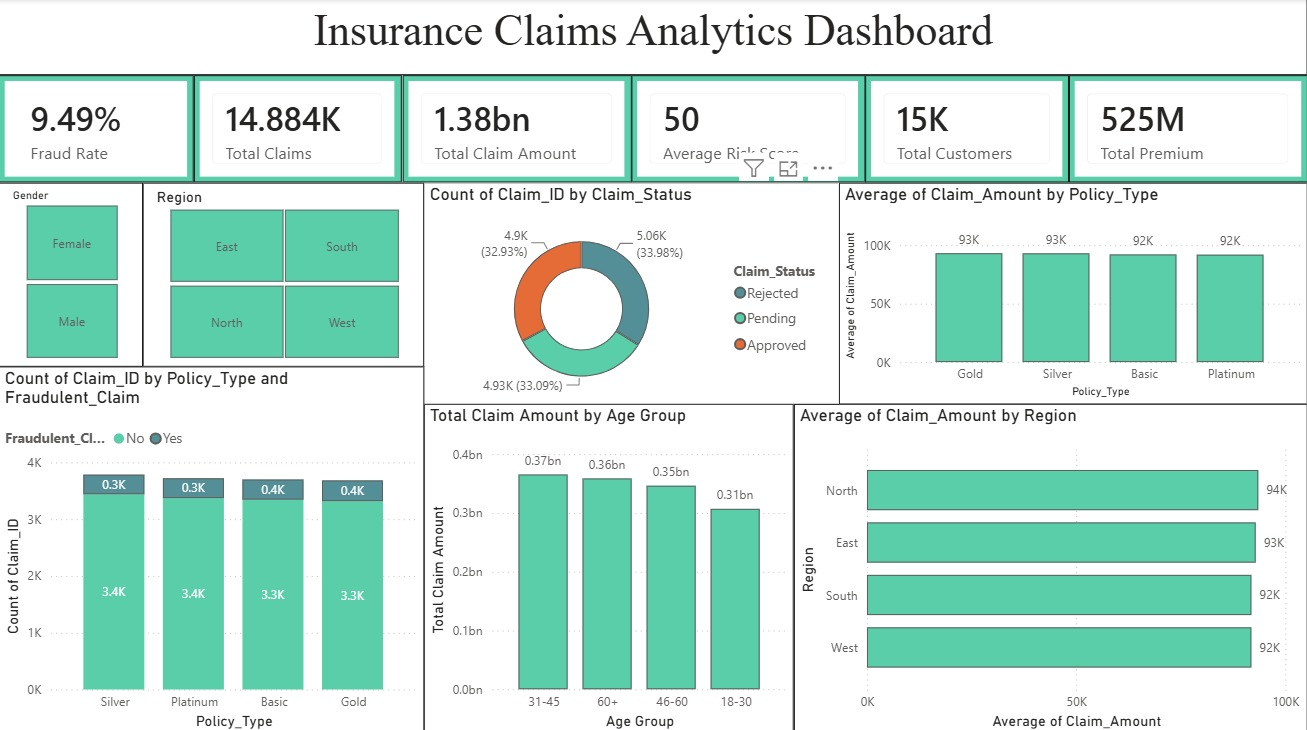

The dashboard page shown, as its layout file describes it:
{"tool":"powerbi","page":{"name":"insurance claims","canvas":[1280,720],"ordinal":0},"visuals":[{"type":"cardVisual","fields":{"Data":["insurance.Fraud Rate"]},"box":[0,74.6,190.8,105.2],"z":0},{"type":"cardVisual","fields":{"Data":["insurance.Total Claim Amount"]},"box":[395,74.6,223.8,105.2],"z":1000},{"type":"cardVisual","fields":{"Data":["insurance.Total Claims"]},"box":[190.8,74.6,203,105.2],"z":2000},{"type":"cardVisual","fields":{"Data":["insurance.Average Risk Score"]},"box":[618.8,74.6,228.7,105.2],"z":3000},{"type":"columnChart","fields":{"Y":["insurance.Total Claim Amount"],"Category":["insurance.Age Group"]},"box":[415.8,396.2,362,324.1],"z":4000},{"type":"donutChart","fields":{"Category":["insurance.Claim_Status"],"Y":["CountNonNull(insurance.Claim_ID)"]},"box":[415.8,179.8,406,217],"z":5000},{"type":"slicer","fields":{"Values":["insurance.Region"]},"box":[140.6,179.8,275.1,179.8],"z":6000},{"type":"barChart","fields":{"Y":["Avg(insurance.Claim_Amount)"],"Category":["insurance.Region"]},"box":[777.7,396.2,502.6,324.1],"z":7000},{"type":"clusteredColumnChart","fields":{"Category":["insurance.Policy_Type"],"Y":["Avg(insurance.Claim_Amount)"]},"box":[821.7,179.8,458.6,216.4],"z":8000},{"type":"columnChart","fields":{"Category":["insurance.Policy_Type"],"Y":["CountNonNull(insurance.Claim_ID)"],"Series":["insurance.Fraudulent_Claim"]},"box":[0,359.5,415.8,360.7],"z":9000},{"type":"slicer","fields":{"Values":["insurance.Gender"]},"box":[0,179.8,140.6,179.8],"z":10000},{"type":"cardVisual","fields":{"Data":["insurance.Total Customers"]},"box":[847.4,74.6,199.3,105.2],"z":11000},{"type":"cardVisual","fields":{"Data":["insurance.Total Premium"]},"box":[1046.7,74.6,233.6,105.2],"z":12000},{"type":"textbox","box":[0,0,1280.3,74.6],"z":12001}]}

Visuals, with their boxes in screenshot pixels (x1, y1, x2, y2), scaled from the page's 1280x720 canvas onto the 1307x730 screenshot:
cardVisual - insurance.Fraud Rate: [0,76,195,182]
cardVisual - insurance.Total Claim Amount: [403,76,632,182]
cardVisual - insurance.Total Claims: [195,76,402,182]
cardVisual - insurance.Average Risk Score: [632,76,865,182]
columnChart - insurance.Total Claim Amount x insurance.Age Group: [425,402,794,729]
donutChart - insurance.Claim_Status x CountNonNull(insurance.Claim_ID): [425,182,839,402]
slicer - insurance.Region: [144,182,424,365]
barChart - Avg(insurance.Claim_Amount) x insurance.Region: [794,402,1306,729]
clusteredColumnChart - insurance.Policy_Type x Avg(insurance.Claim_Amount): [839,182,1306,402]
columnChart - insurance.Policy_Type x CountNonNull(insurance.Claim_ID): [0,364,425,729]
slicer - insurance.Gender: [0,182,144,365]
cardVisual - insurance.Total Customers: [865,76,1069,182]
cardVisual - insurance.Total Premium: [1069,76,1306,182]
textbox: [0,0,1306,76]
